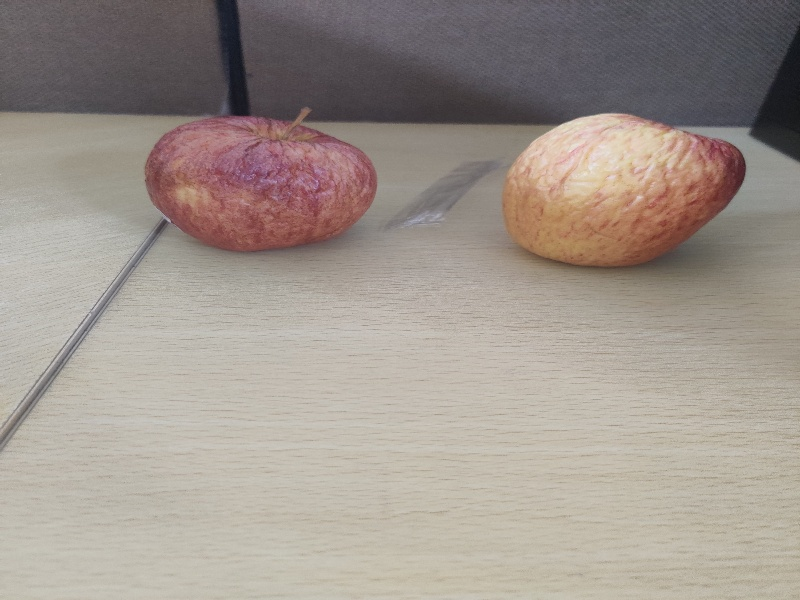apple: (493, 95, 752, 268), (141, 95, 382, 249)
